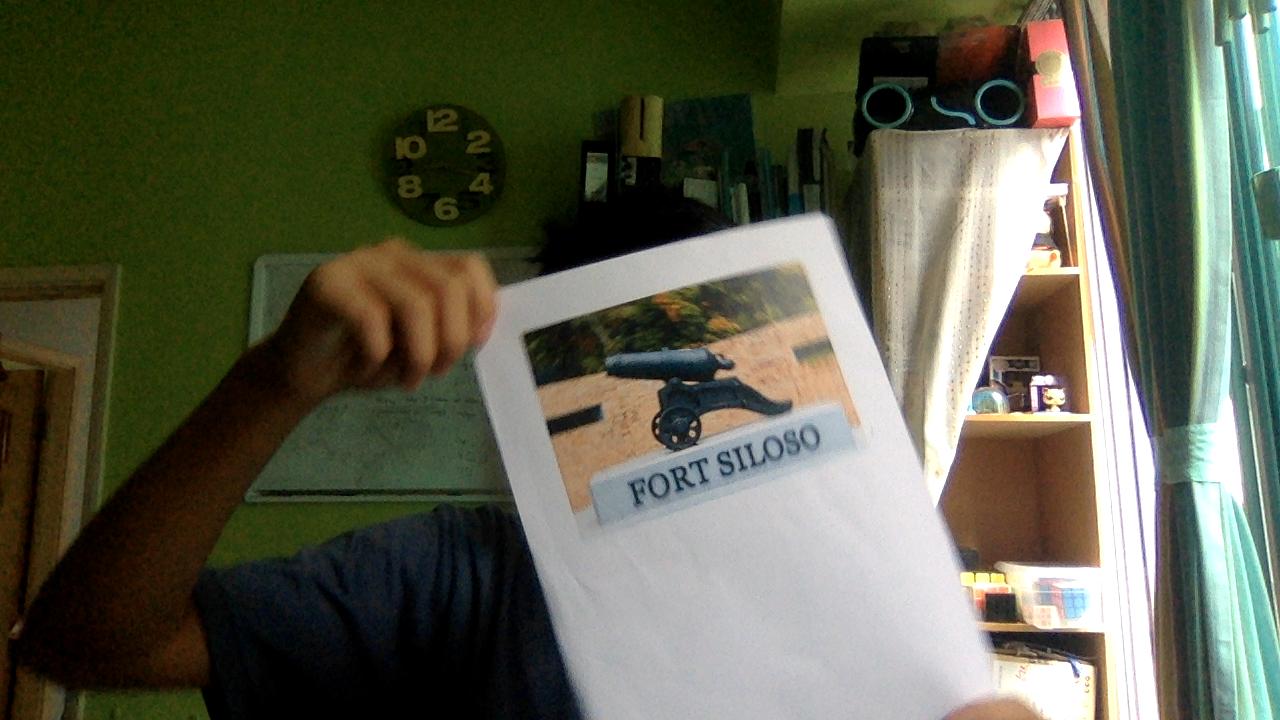siloso: (536, 301, 862, 504)
